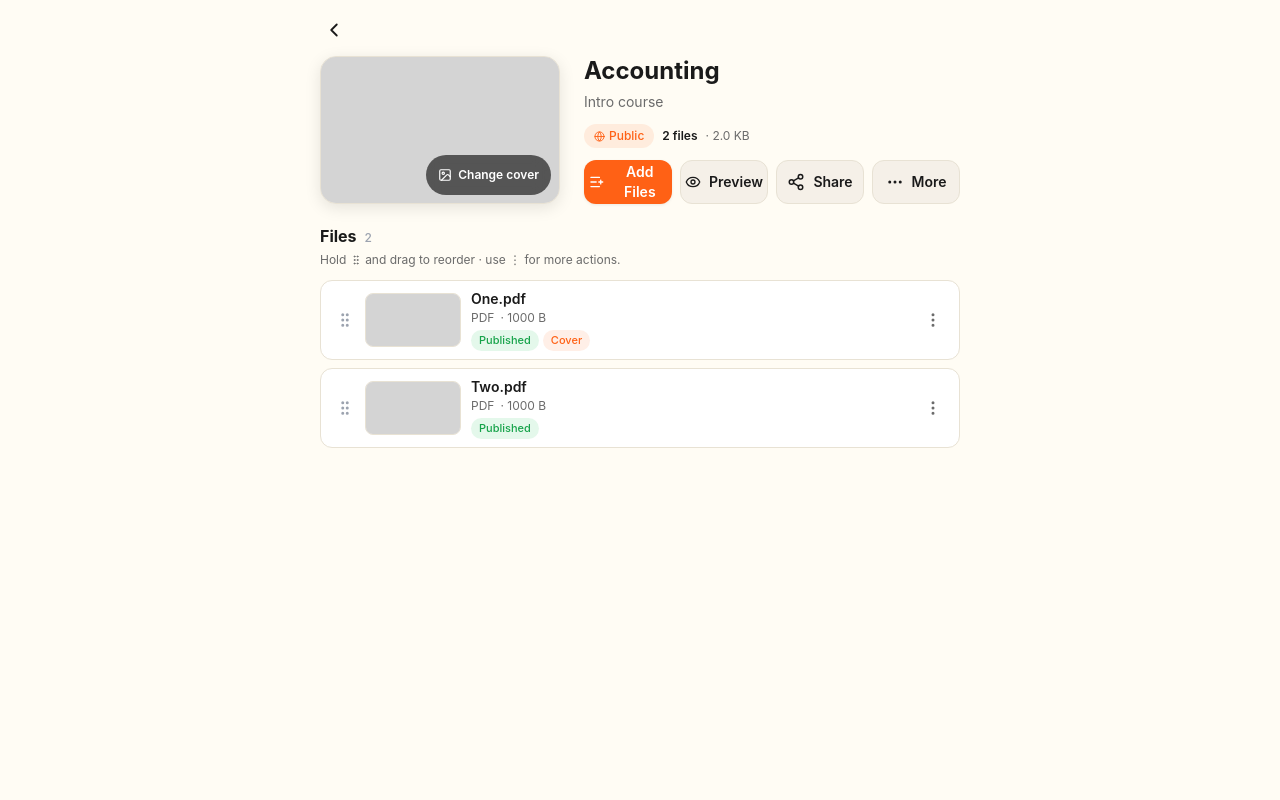
it: Creator playlist page — file actions › removing the FIRST file moves the cover to the next file; a failed request restores row, count and cover
The width and height of the screenshot is (1280, 800).
Click the button with test id "action-menu-button".
click(933, 320)  # box [911,298,955,342]
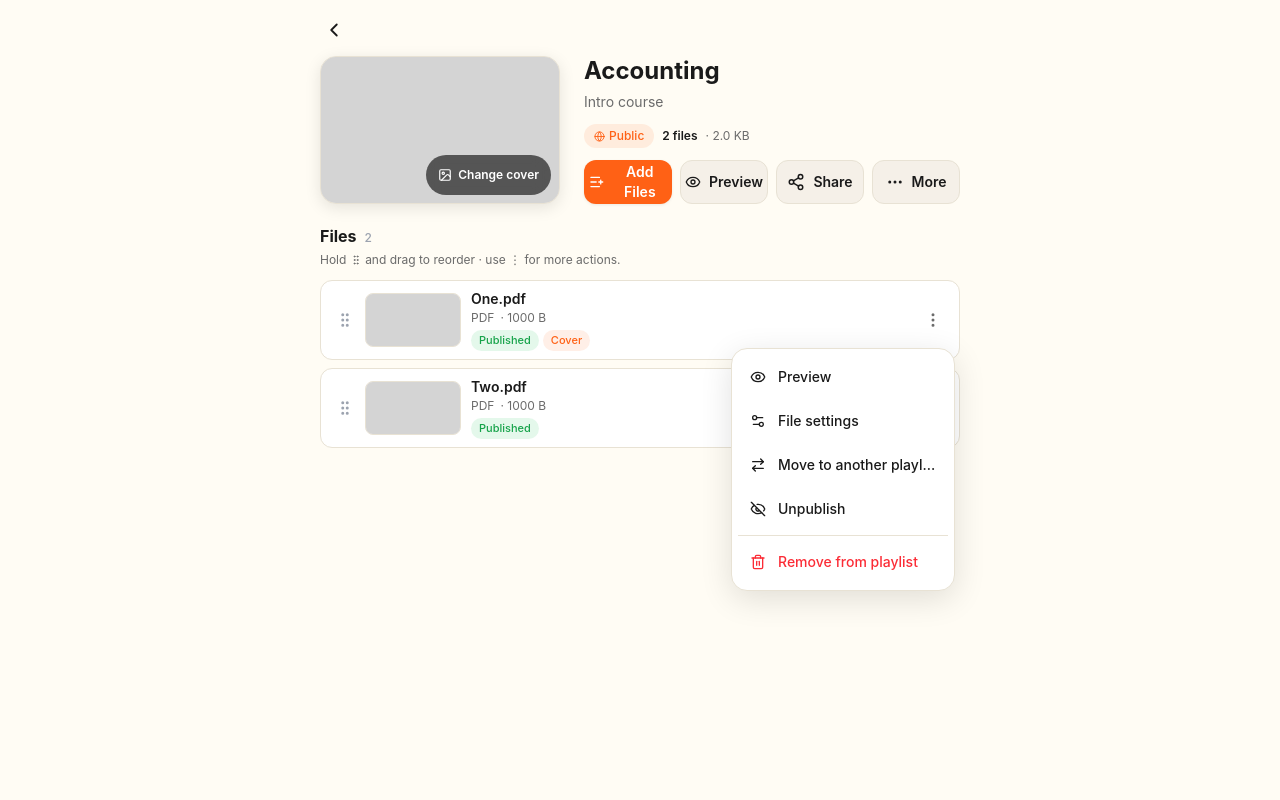
Click the menu item with test id "menu-item-remove".
click(843, 562)  # box [738,540,948,584]
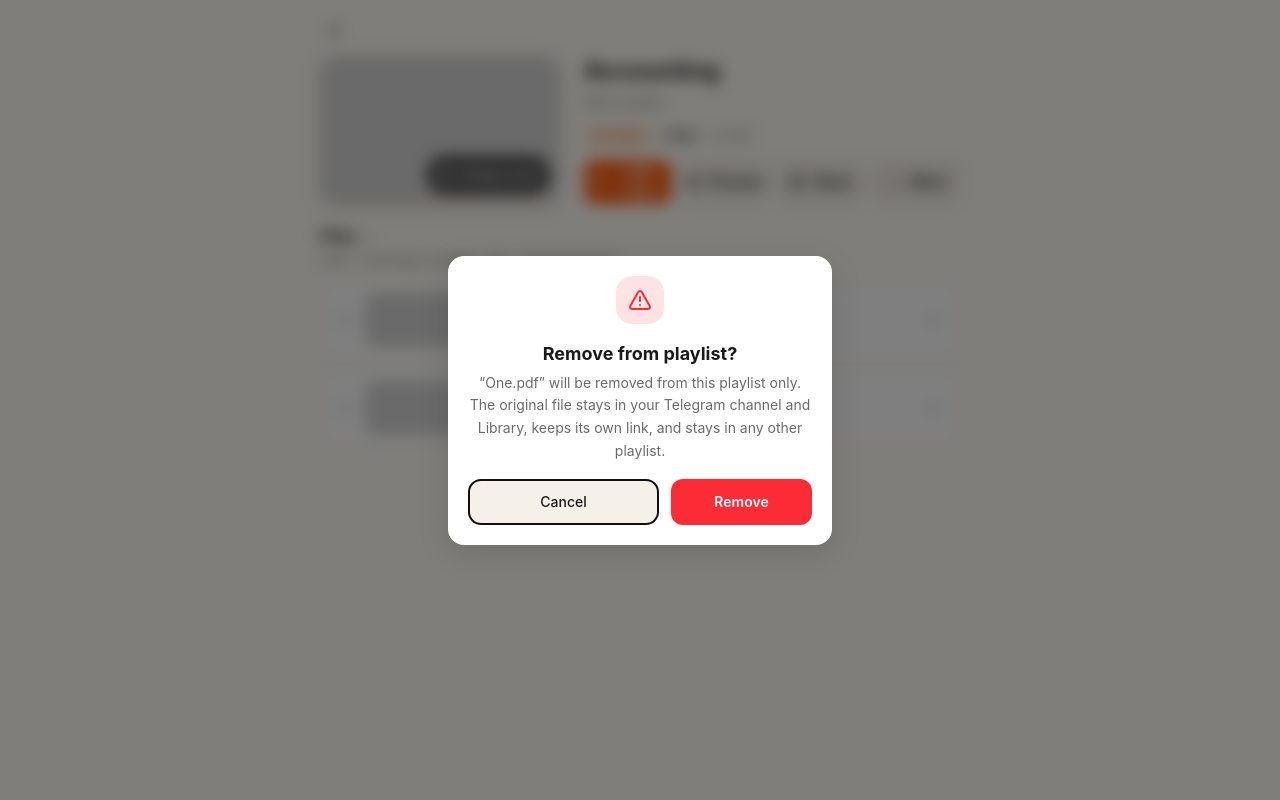
Click the button with test id "confirm-action".
click(742, 502)  # box [671,478,812,524]
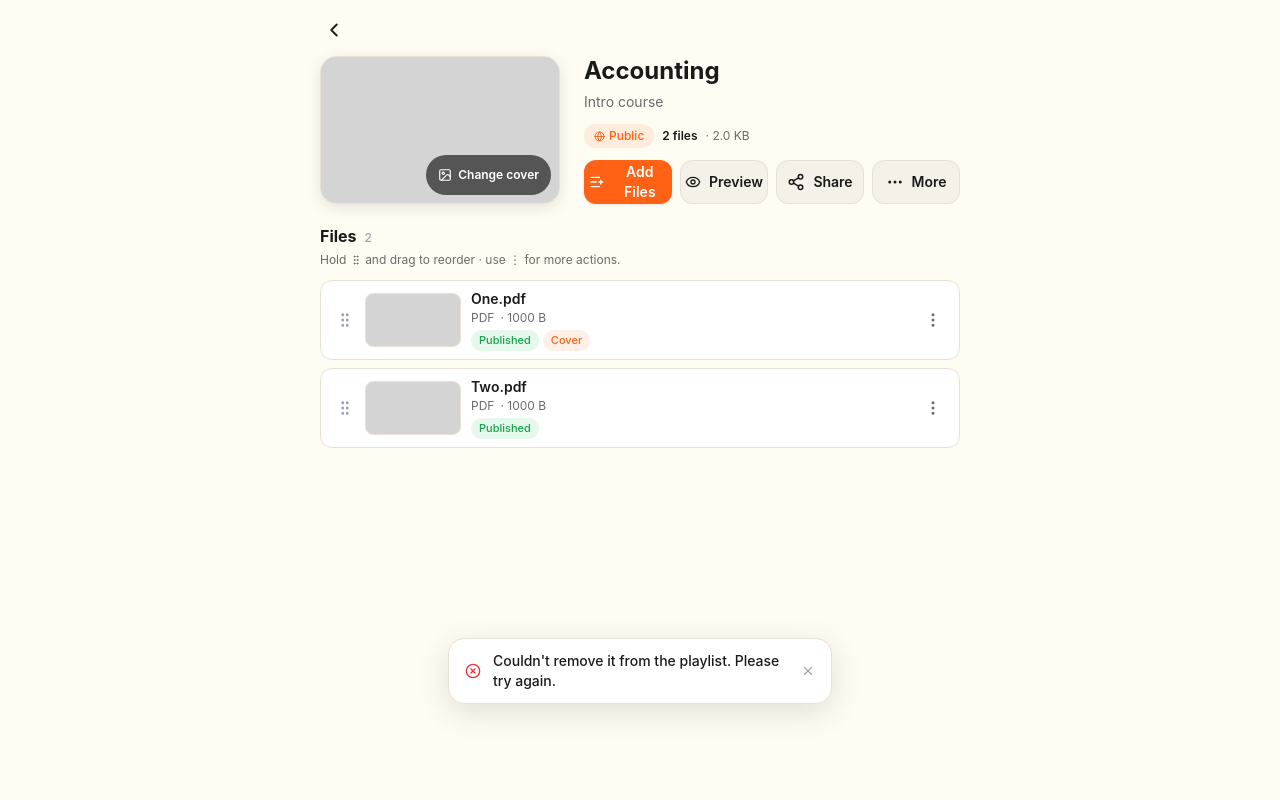
Expected: the text with test id "playlist-count" reads "2 files", [662,128,698,144]
Expected: the text "Couldn't remove it" is shown, [493,652,779,689]
